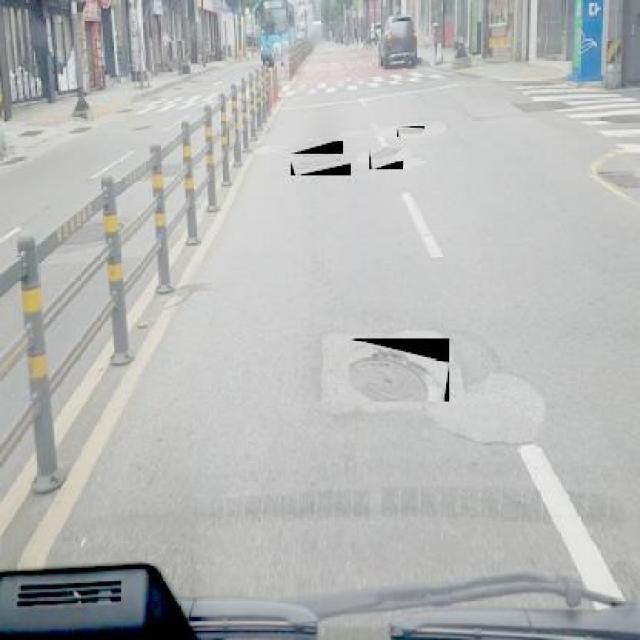Manhole: (349, 338, 449, 402), (291, 160, 351, 176), (368, 148, 404, 171), (290, 140, 344, 154), (398, 126, 426, 137)
